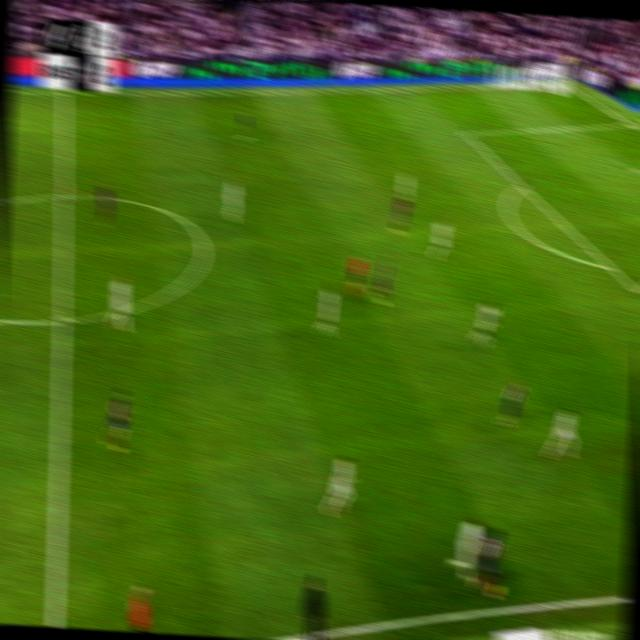bigarea_top_inner: (461, 126, 473, 140)
bigarea_top_outter: (622, 114, 636, 131)
bottom_arc_area_intersection: (603, 256, 619, 277)
halfcircle_bottom: (53, 303, 73, 338)
halfcircle_top: (54, 181, 74, 211)
smallarea_top_inner: (632, 161, 640, 177)
top_arc_area_intersection: (516, 177, 528, 193)
